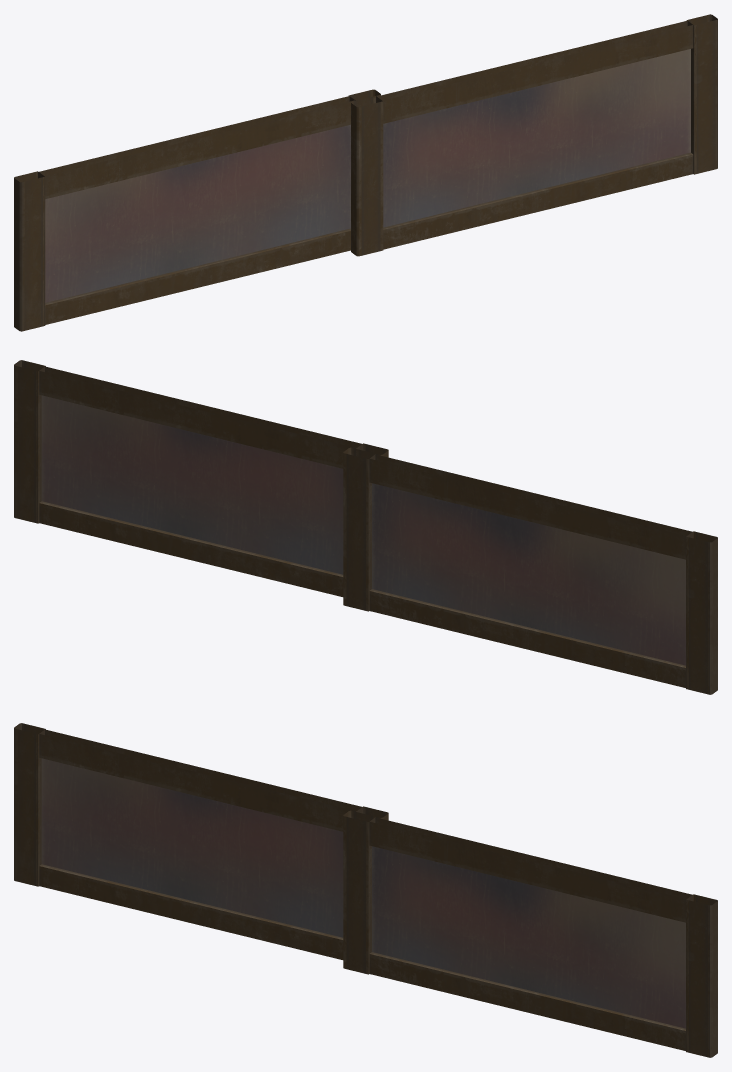
The model's file is Door_D_Top_Window.fbx.
3 views of the same model, one above another, from view 1: azimuth 30°, elevation 25°; view 2: azimuth 150°, elevation 25°; view 3: azimuth 330°, elevation 25° (orthographic). The views are drawn at different scales.
Parts seen in each view (by area): view 1: Door_D_Top_Window; view 2: Door_D_Top_Window; view 3: Door_D_Top_Window.
Boxes of the visible parts, <box> form: Door_D_Top_Window: <box>14,14,717,331</box>; Door_D_Top_Window: <box>14,360,717,694</box>; Door_D_Top_Window: <box>14,723,717,1057</box>.
Bounding box in the file's own units: 219 × 45.19 × 8.
Materials: 1 (1 with a texture image).
